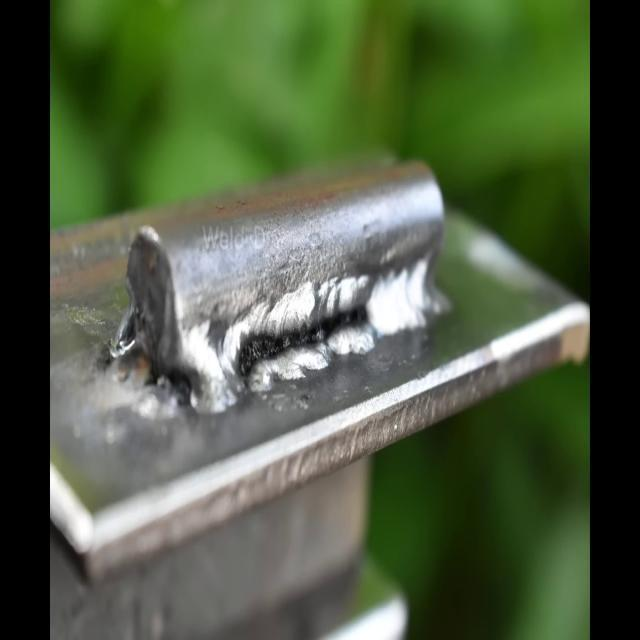Bad Welding: (108, 251, 450, 419)
